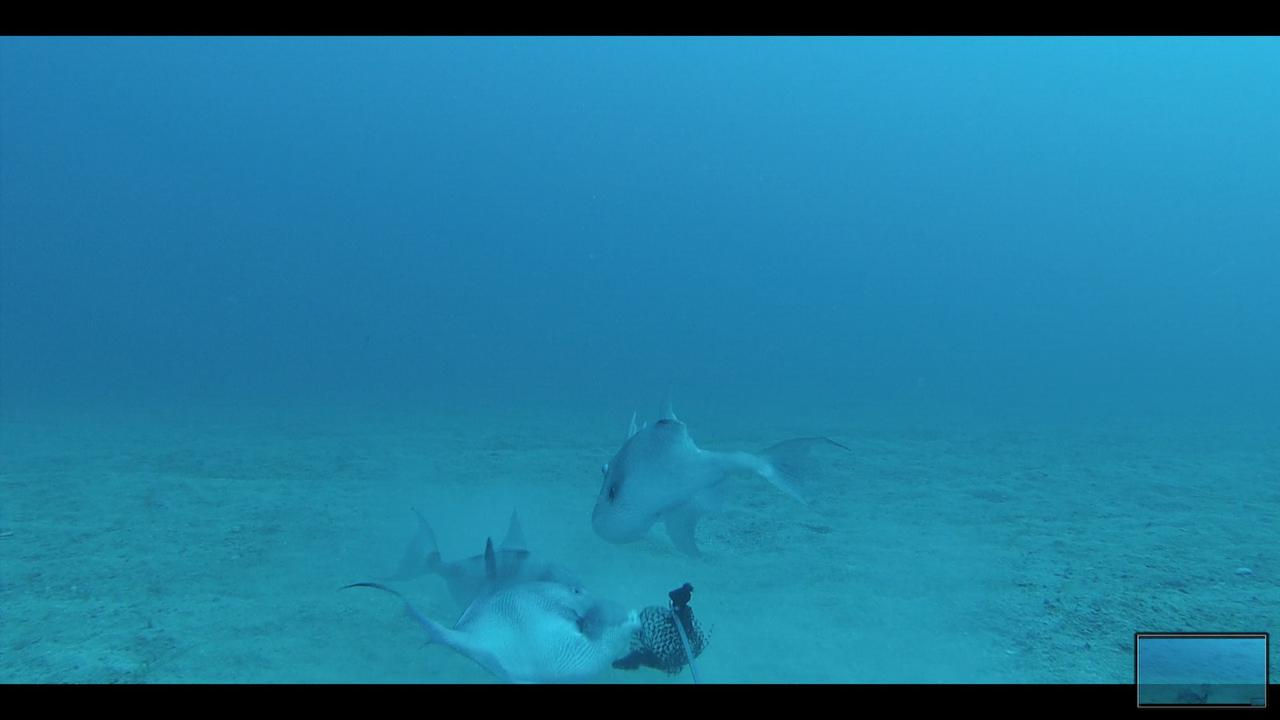balistes: (579, 392, 859, 558), (329, 571, 643, 681), (380, 498, 594, 616)
